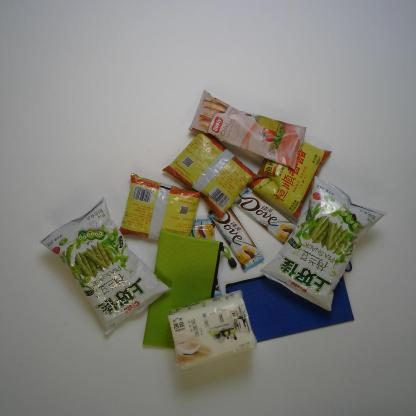Chocolate: (228, 179, 297, 244), (214, 201, 260, 269), (189, 210, 221, 297)
Dessert: (186, 90, 308, 170)
Puffed Food: (37, 198, 166, 339), (263, 180, 382, 309)
Seasoner: (162, 127, 254, 214), (247, 134, 336, 221), (121, 169, 200, 245)
Stationery: (141, 218, 223, 357), (227, 262, 350, 343)
Tissue: (165, 293, 260, 365)
